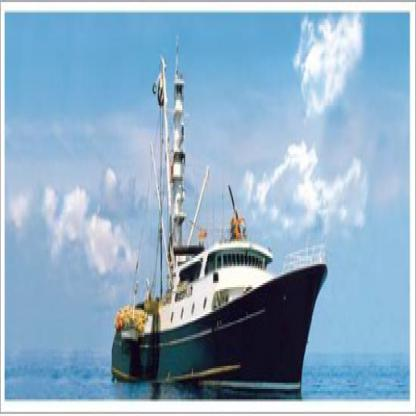fish-b: (104, 29, 331, 410)
